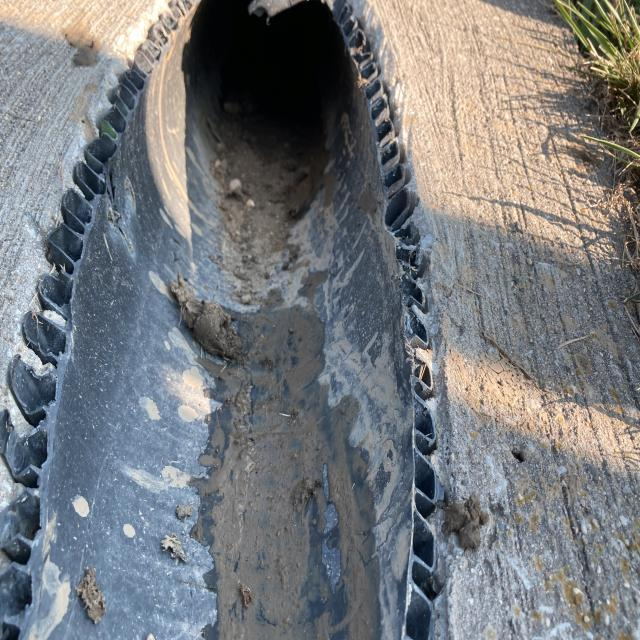dirt: (218, 318, 333, 640), (216, 105, 318, 259), (173, 294, 245, 350)
